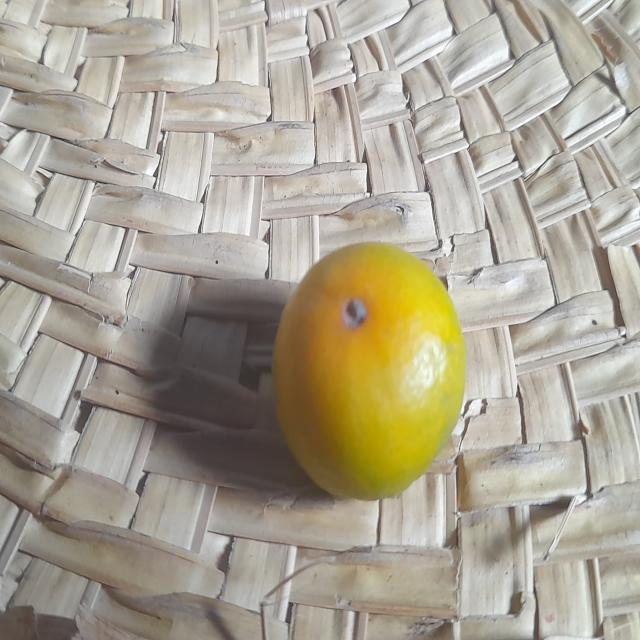greening: (271, 240, 468, 511)
